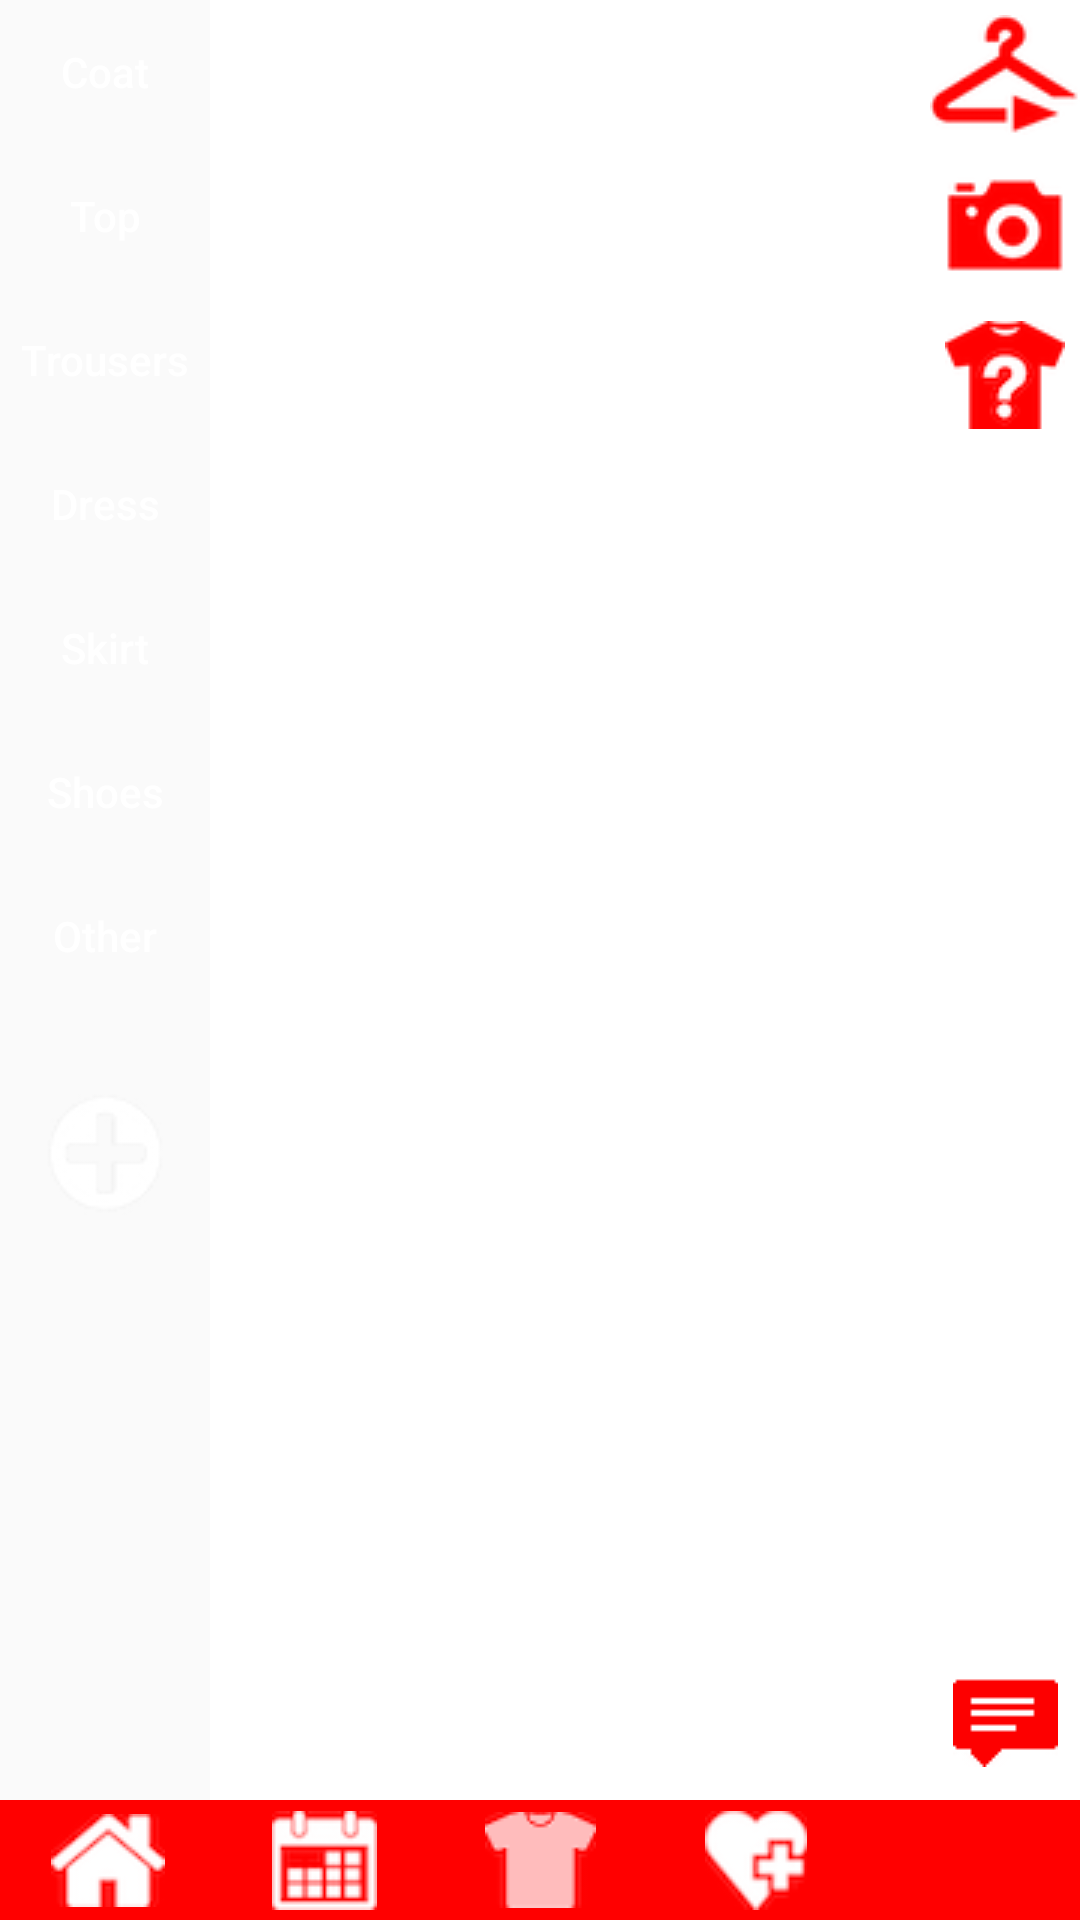

Named icons in this screenshot (1080x1920) and their bounding boxes, box=[x1, y1, x2, y2]:
calendar: box=[272, 1811, 377, 1910]
comment: box=[953, 1679, 1058, 1767]
friend: box=[705, 1811, 807, 1910]
home: box=[51, 1814, 165, 1907]
photogr: box=[947, 179, 1063, 271]
questiontshirt: box=[945, 321, 1065, 429]
sendoutfit: box=[930, 15, 1077, 133]
tshirt: box=[485, 1812, 596, 1908]
